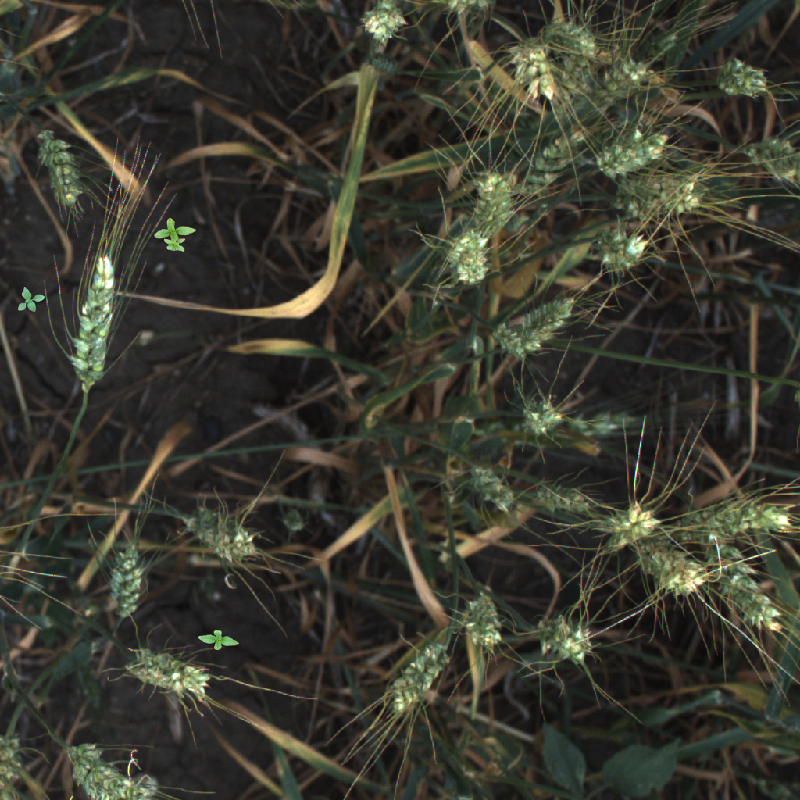spikelet: (702, 535, 791, 643), (669, 478, 800, 548), (55, 735, 168, 800), (71, 251, 119, 385), (513, 117, 589, 195), (450, 573, 513, 667), (533, 604, 606, 677), (596, 488, 673, 557), (455, 161, 525, 236), (630, 540, 712, 603), (510, 384, 583, 452), (589, 125, 688, 175), (610, 178, 710, 225), (33, 122, 84, 210), (183, 504, 256, 564), (497, 35, 559, 104), (738, 128, 800, 196), (385, 642, 442, 715), (125, 650, 213, 696), (550, 46, 598, 126), (590, 57, 663, 108), (517, 289, 578, 349), (592, 224, 657, 279), (101, 543, 146, 616), (525, 21, 598, 61), (1, 712, 32, 800), (446, 228, 490, 285), (712, 56, 772, 97), (528, 482, 596, 517), (564, 407, 640, 437), (489, 319, 539, 363), (468, 463, 514, 510), (360, 1, 408, 42), (370, 53, 397, 74), (280, 506, 303, 528)
weed: (154, 218, 196, 252), (198, 630, 239, 650), (18, 287, 45, 312)
